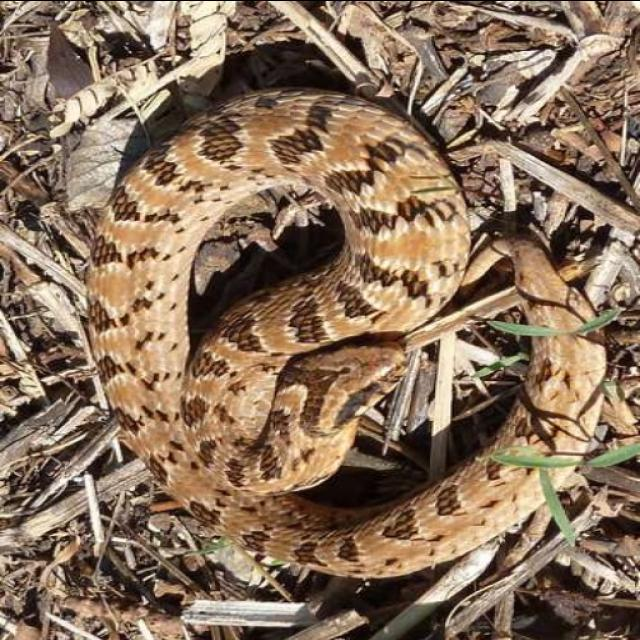snake: (73, 73, 605, 611)
